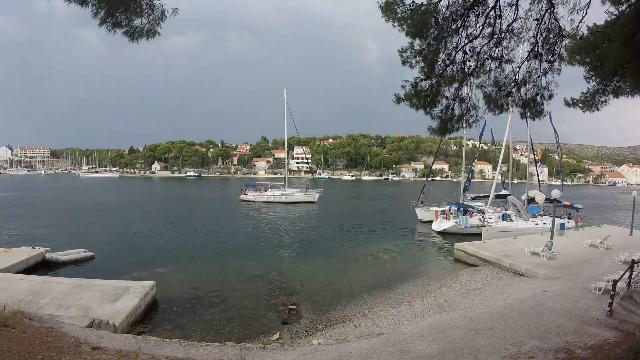Sailboat: (235, 174, 328, 207)
